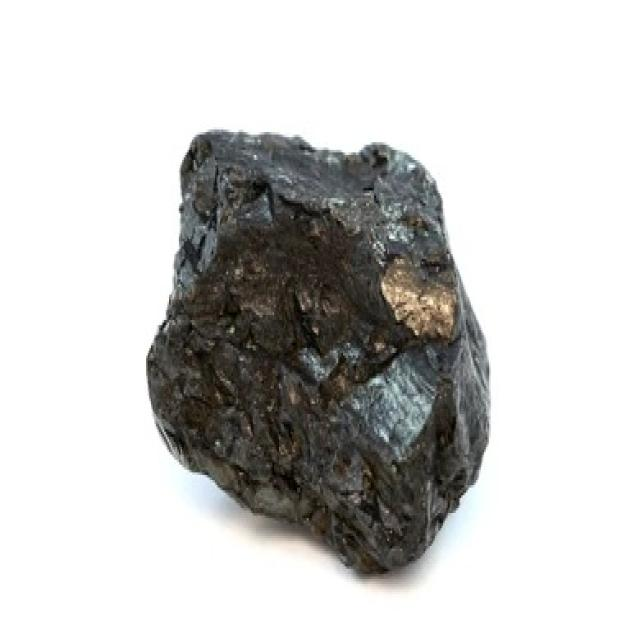Sedimentary: (144, 111, 510, 582)
